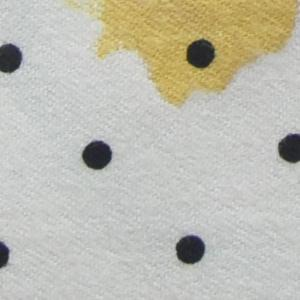Stain: (61, 1, 300, 112)
